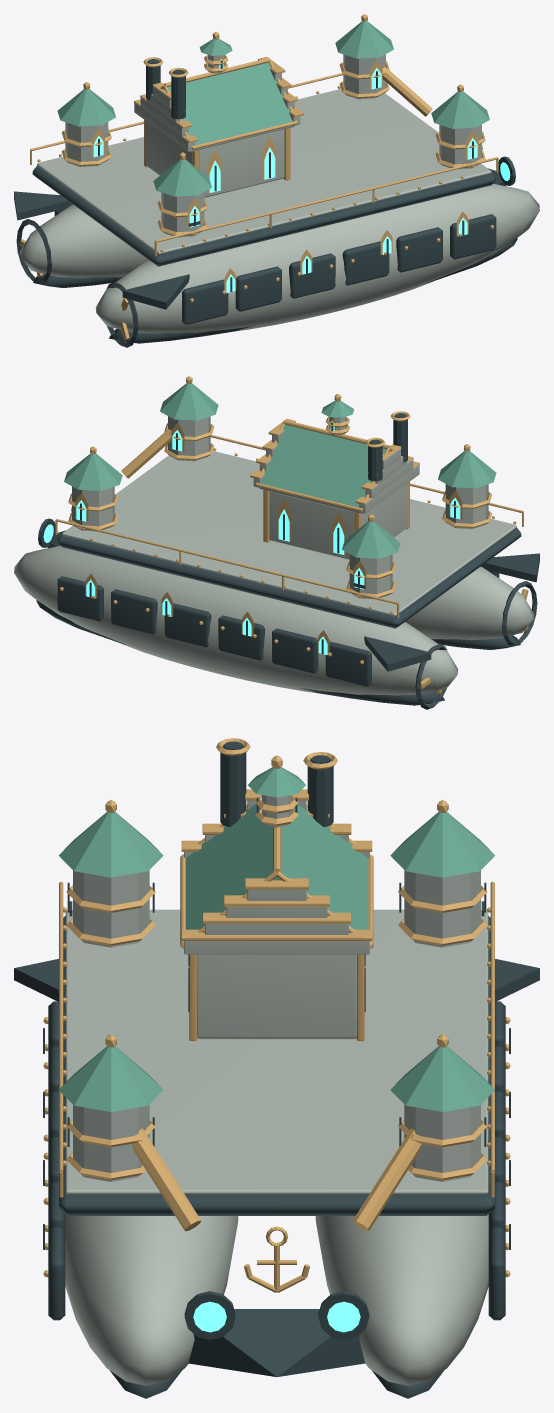
File: bastion.glb
The picture shows the model from 3 angles, top to bottom: view 1: azimuth 30°, elevation 25°; view 2: azimuth 150°, elevation 25°; view 3: azimuth 270°, elevation 25°; orthographic projection. The views are drawn at different scales.
Visible parts, largest first — view 1: bastion / Paint | armored limestone, bastion / Hull | charcoal iron, bastion / Copper | steep verdigris roof, bastion / Fittings | worn maritime brass, bastion / Lamp | turbine mint; view 2: bastion / Paint | armored limestone, bastion / Hull | charcoal iron, bastion / Copper | steep verdigris roof, bastion / Fittings | worn maritime brass, bastion / Lamp | turbine mint; view 3: bastion / Paint | armored limestone, bastion / Hull | charcoal iron, bastion / Copper | steep verdigris roof, bastion / Fittings | worn maritime brass, bastion / Lamp | turbine mint.
Part boxes in pixels (x1=…): bastion / Paint | armored limestone: x1=20, y1=54, x2=539, y2=333; bastion / Hull | charcoal iron: x1=14, y1=59, x2=517, y2=347; bastion / Copper | steep verdigris roof: x1=57, y1=21, x2=489, y2=196; bastion / Fittings | worn maritime brass: x1=30, y1=14, x2=498, y2=302; bastion / Lamp | turbine mint: x1=93, y1=59, x2=510, y2=293; bastion / Paint | armored limestone: x1=14, y1=416, x2=533, y2=695; bastion / Hull | charcoal iron: x1=36, y1=413, x2=539, y2=709; bastion / Copper | steep verdigris roof: x1=64, y1=383, x2=496, y2=558; bastion / Fittings | worn maritime brass: x1=55, y1=376, x2=523, y2=664; bastion / Lamp | turbine mint: x1=43, y1=421, x2=460, y2=655; bastion / Paint | armored limestone: x1=65, y1=795, x2=488, y2=1385; bastion / Hull | charcoal iron: x1=14, y1=741, x2=539, y2=1398; bastion / Copper | steep verdigris roof: x1=59, y1=767, x2=494, y2=1111; bastion / Fittings | worn maritime brass: x1=43, y1=738, x2=510, y2=1292; bastion / Lamp | turbine mint: x1=193, y1=1301, x2=360, y2=1332.
Size of the model in its own units: 10.13 by 5.7 by 5.9.
